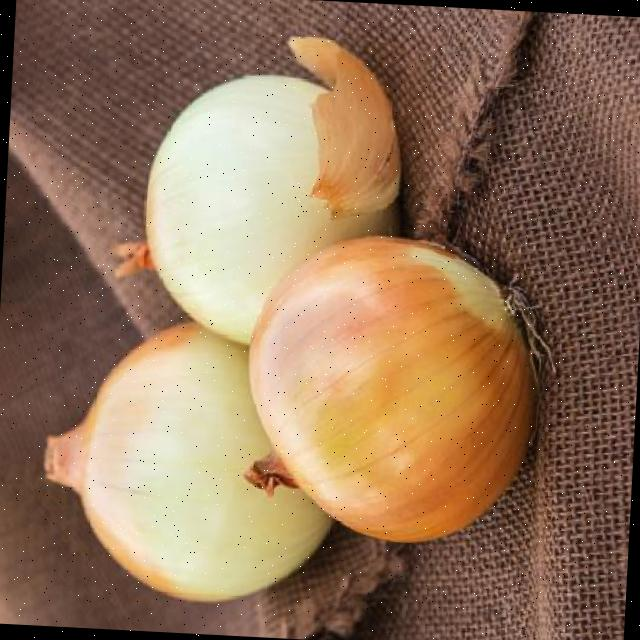Onion: (115, 35, 402, 342), (251, 235, 536, 542), (47, 323, 332, 601)
